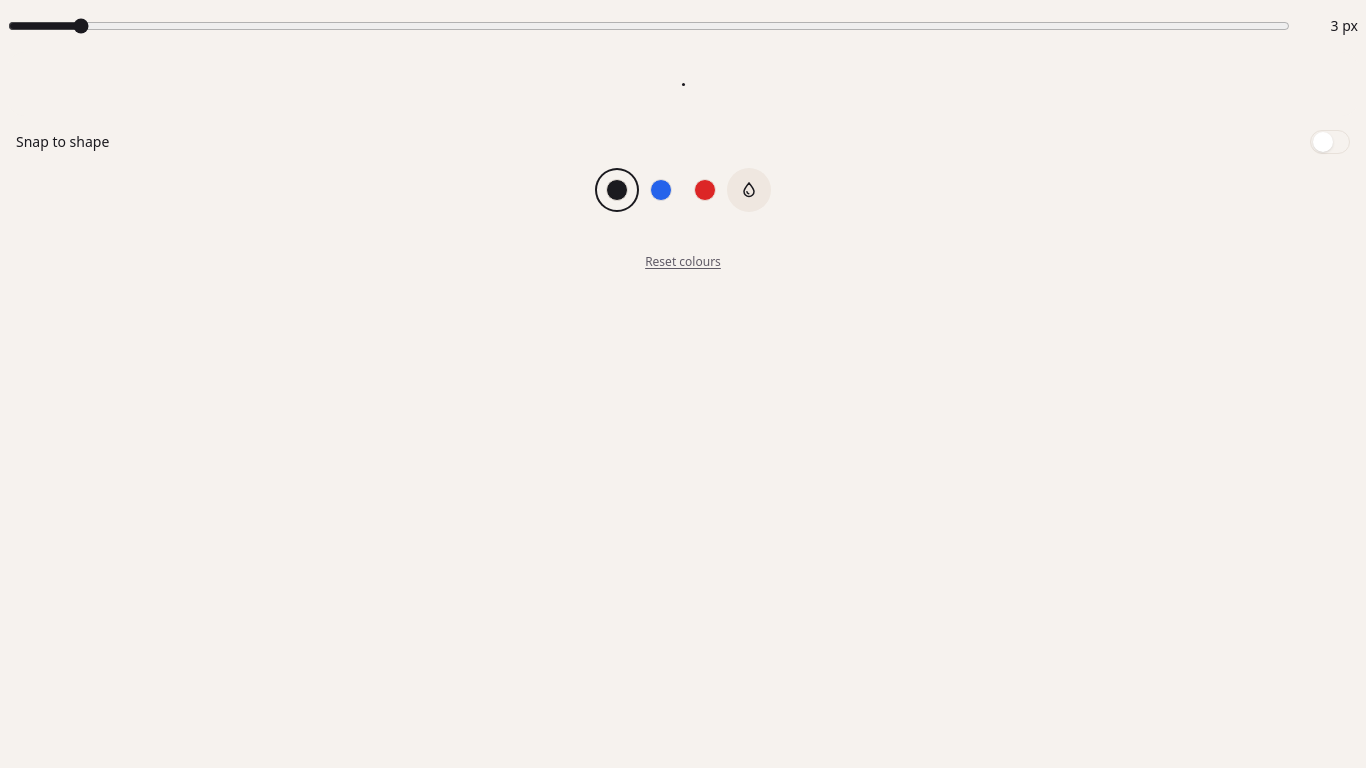
Test case: ToolOptions text styles › Save preset replaces the selected preset (a default included), keeps the colour selected and persists
Click the button named "Colour #2563EB". click: (661, 190)
box: [639,168,683,212]
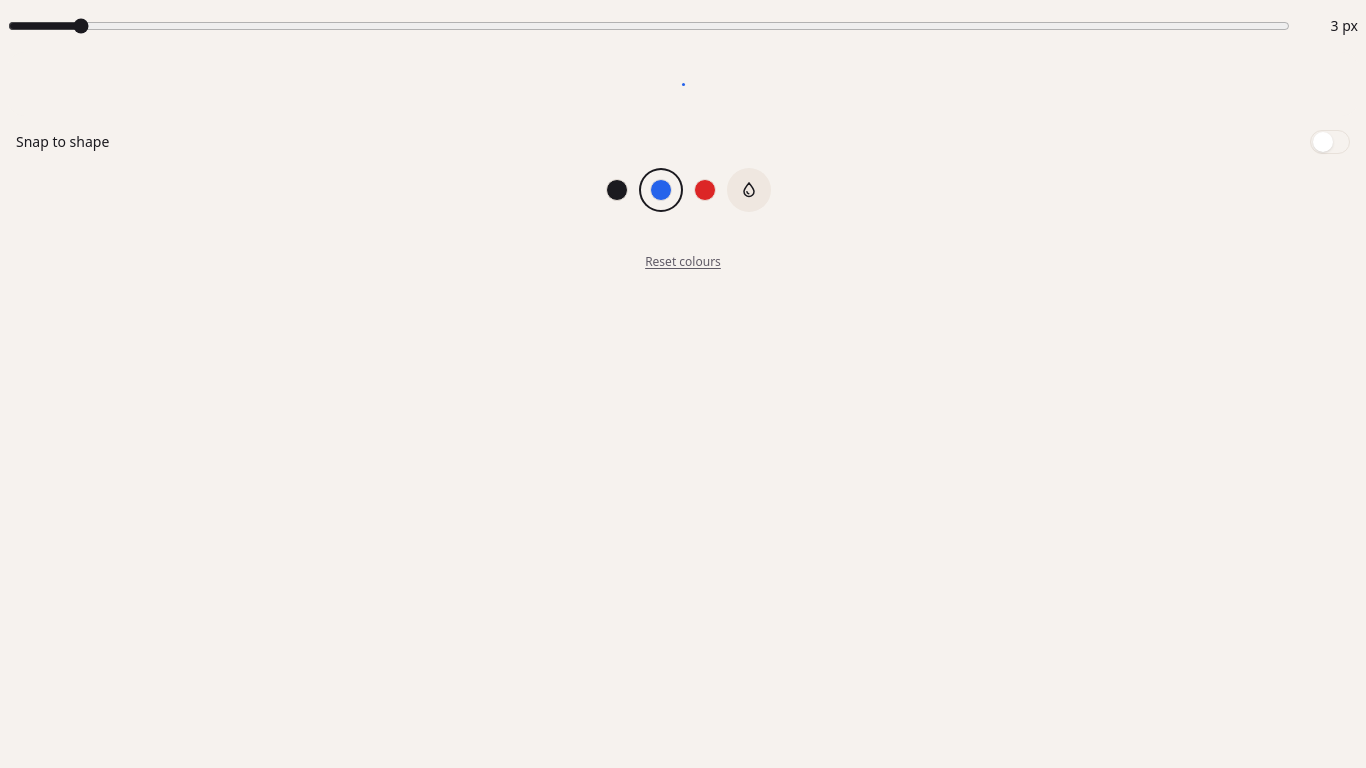
Click the button named "Colour #2563EB". click: (661, 190)
box: [639,168,683,212]
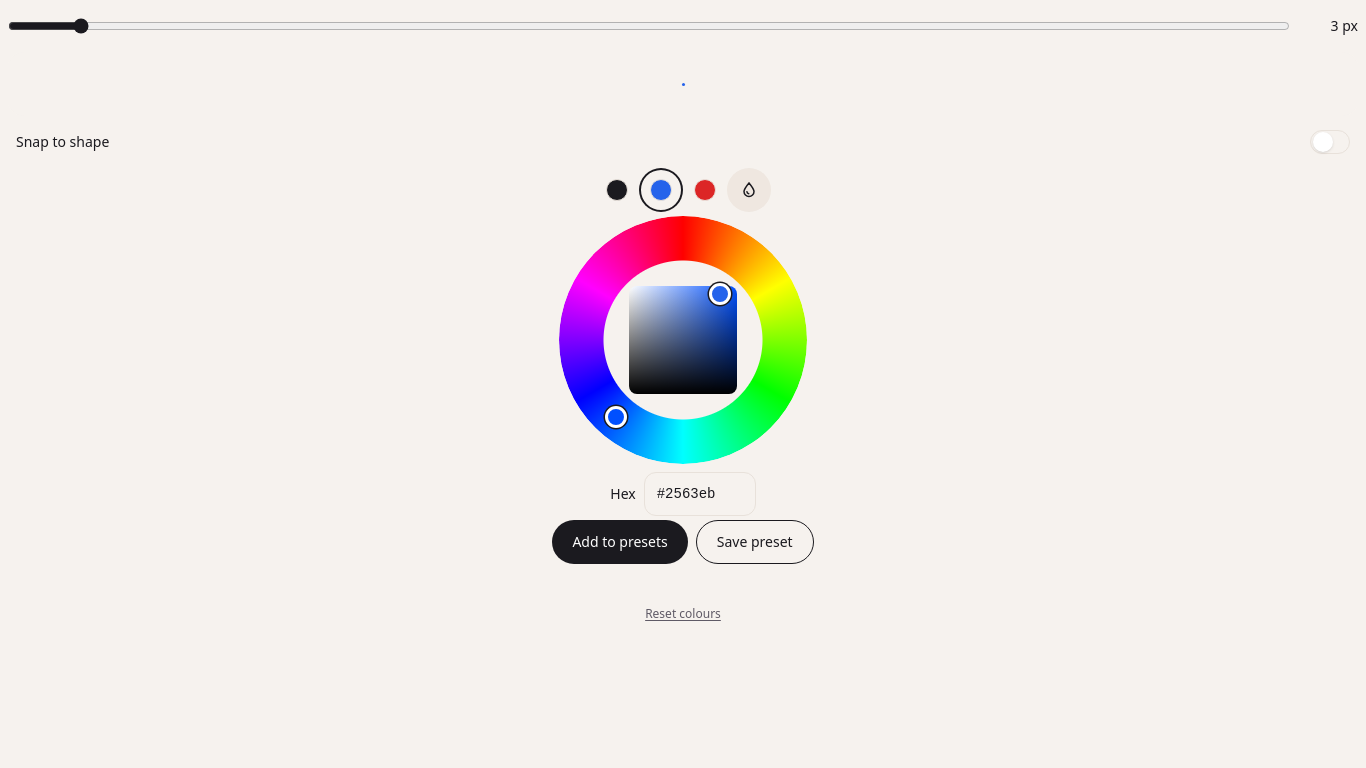
Replace the text in the field labelled "Hex" with "#00aa55". click: (700, 494)
box: [644,472,756,516]
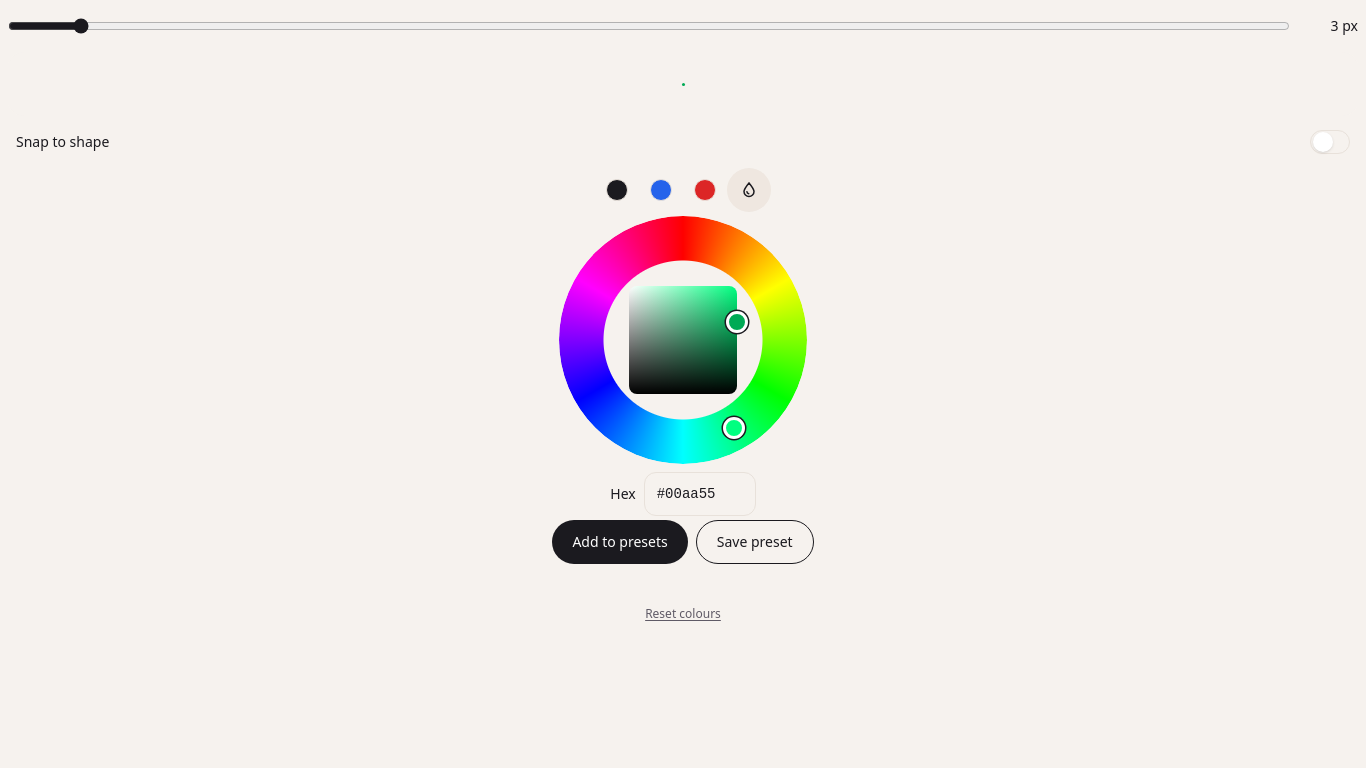
Click the button "Save preset". click: (755, 542)
box: [696,520,814,564]
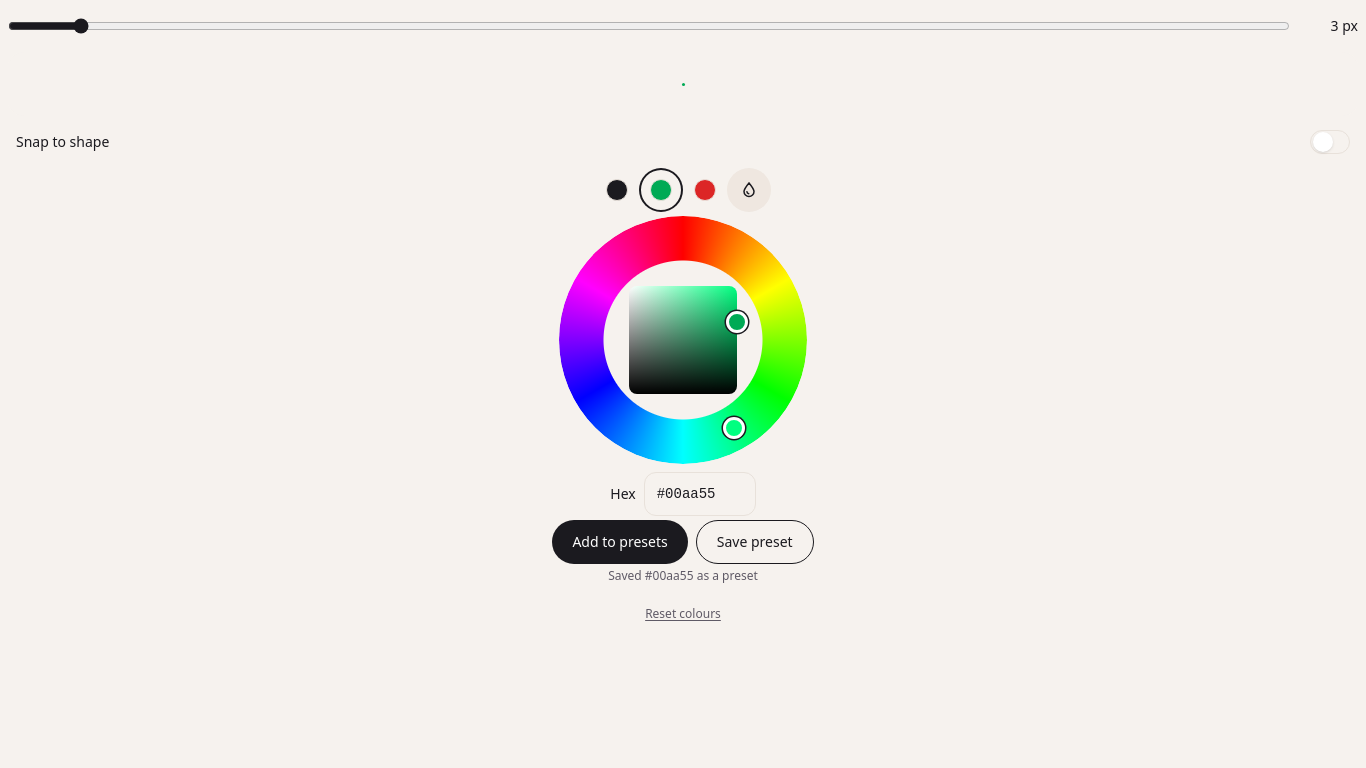
Expected: the message with test id "preset-message" reads "Saved #00aa55 as a preset", [608,567,758,584]
A second save of the same colour, or of one that is another preset, changes nothing.
Click the button "Save preset". click: (755, 542)
box: [696,520,814,564]
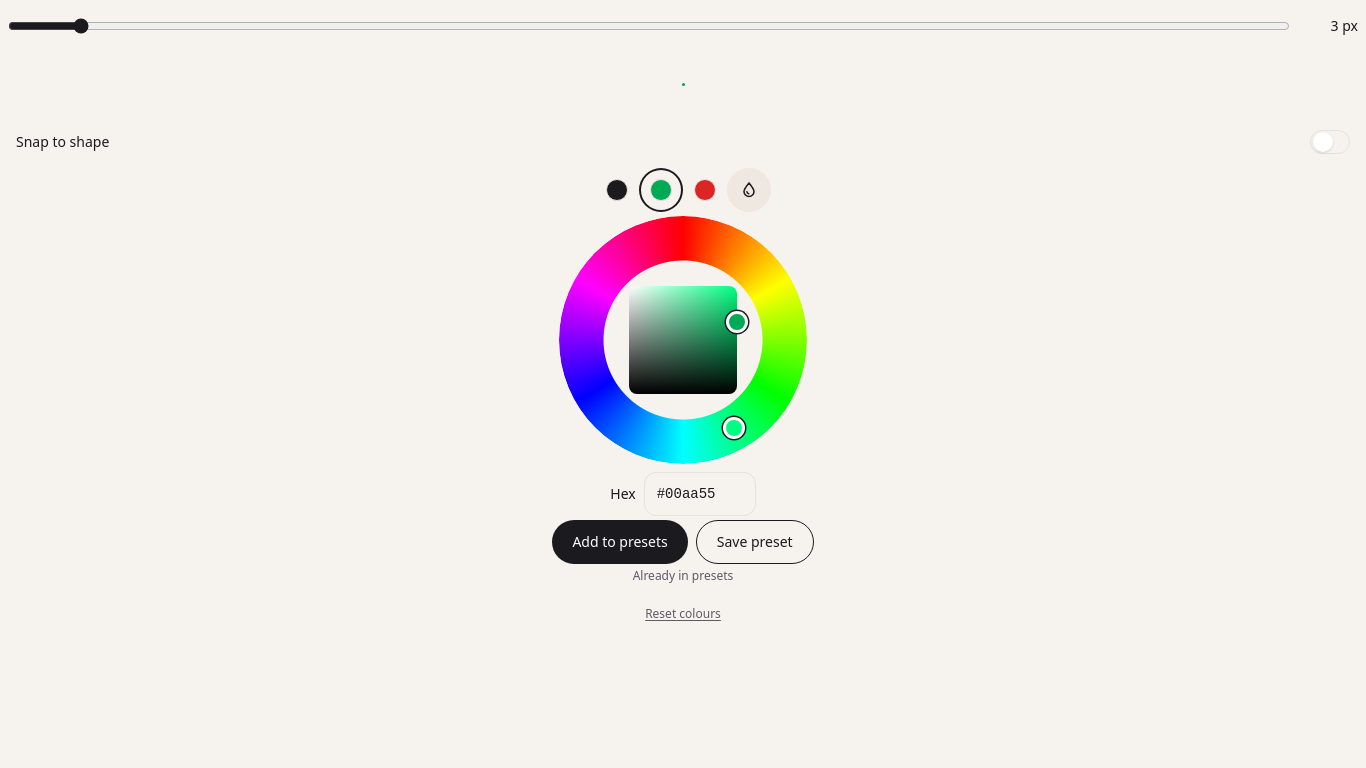
Expected: the message with test id "preset-message" reads "Already in presets", [633,567,733,584]
